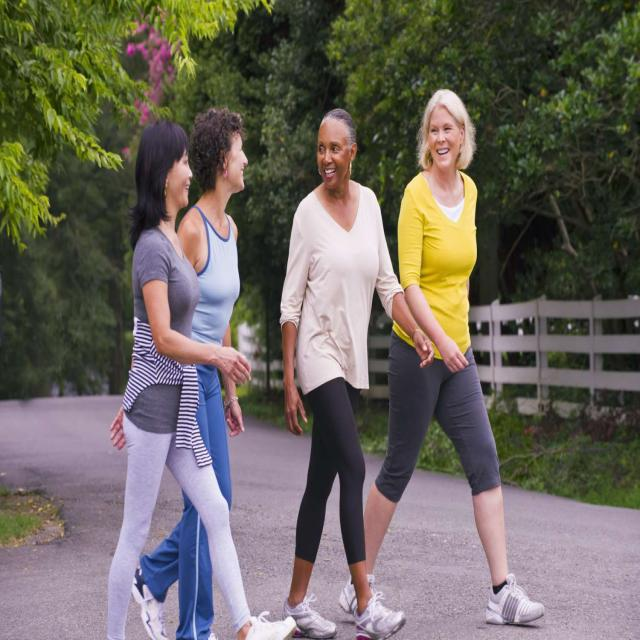Person: (338, 86, 545, 635), (106, 118, 296, 640), (281, 107, 434, 640), (128, 105, 248, 640)
